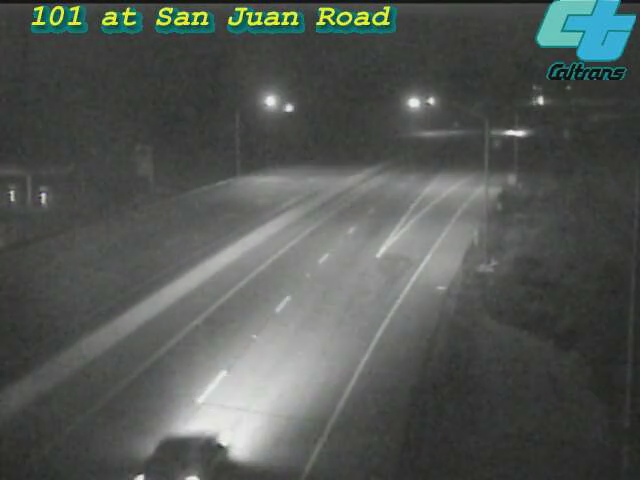vehicle: (124, 403, 234, 480), (488, 109, 538, 159)
